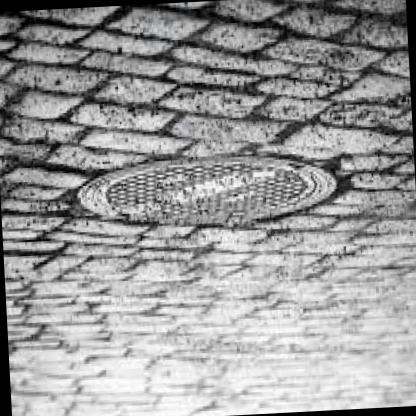manholes: (49, 111, 356, 276)
